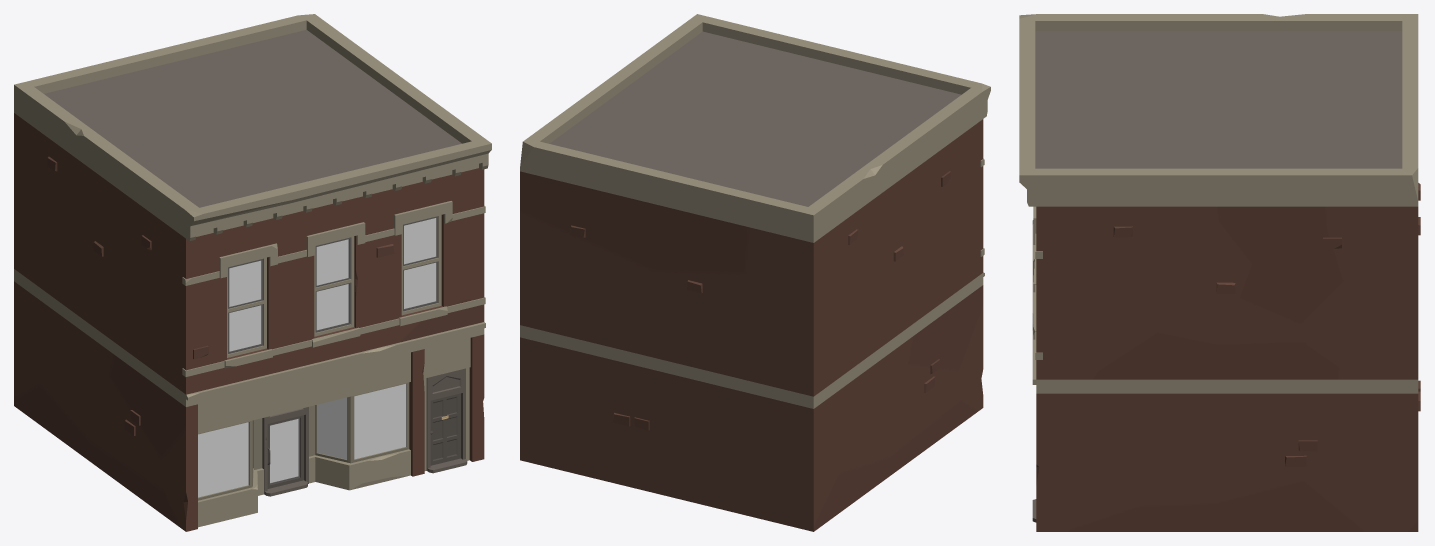
The model's file is SM_Bldg_City_Shop_02.fbx.
The picture shows the model from 3 angles, left to right: view 1: azimuth 30°, elevation 25°; view 2: azimuth 150°, elevation 25°; view 3: azimuth 270°, elevation 25°; orthographic projection. The views are drawn at different scales.
Parts seen in each view (by area): view 1: SM_Bldg_City_Shop_02, SM_Bldg_City_Shop_02_Glass; view 2: SM_Bldg_City_Shop_02; view 3: SM_Bldg_City_Shop_02.
Boxes of the visible parts, x1,y1,x2,y2 form: SM_Bldg_City_Shop_02: (14,14,491,531); SM_Bldg_City_Shop_02_Glass: (198,218,436,497); SM_Bldg_City_Shop_02: (520,14,990,531); SM_Bldg_City_Shop_02: (1019,14,1420,531).
Bounding box in the file's own units: 1012 × 1030 × 1051.
